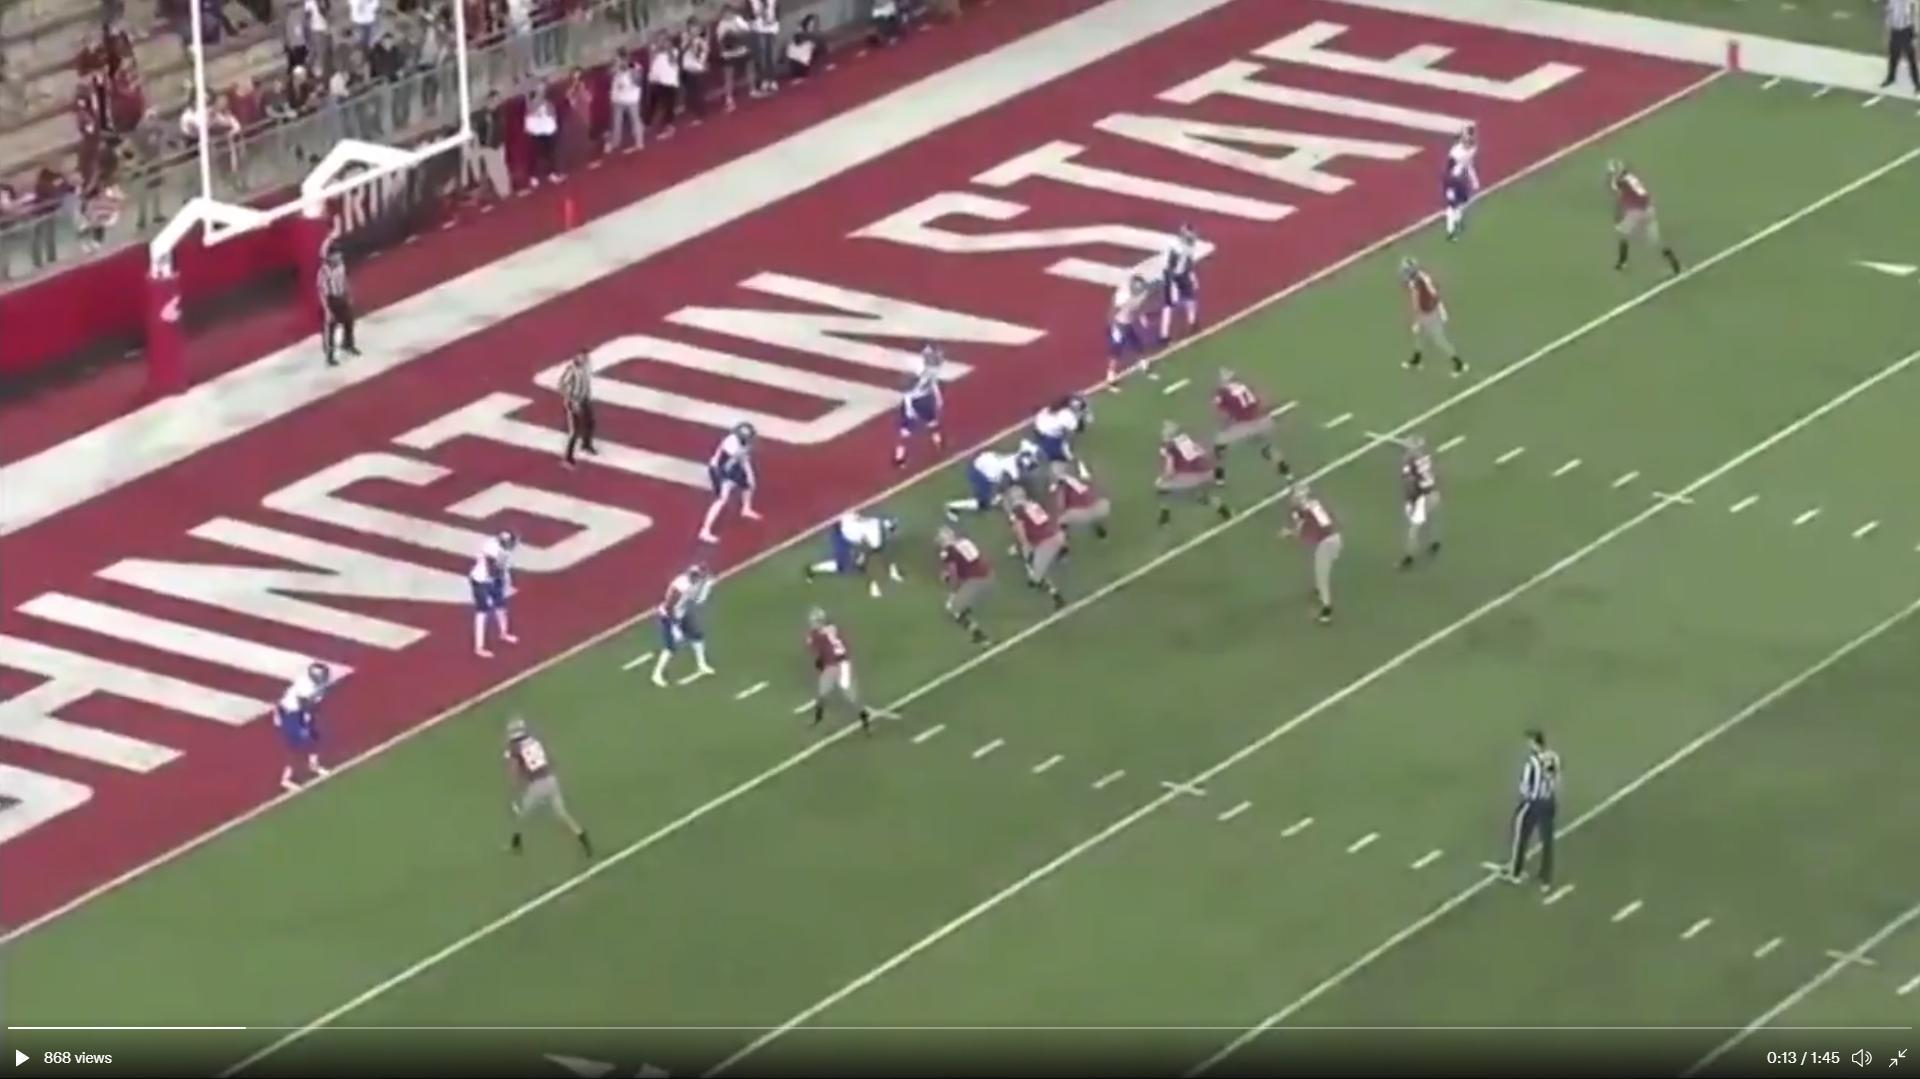defense: (649, 553, 727, 696), (880, 342, 957, 481), (695, 410, 767, 547), (1095, 265, 1170, 396), (274, 654, 338, 798), (468, 521, 530, 666), (808, 509, 905, 601), (1151, 226, 1217, 356), (949, 448, 1040, 525), (1435, 123, 1489, 247), (1025, 397, 1097, 484)
oline: (1208, 371, 1294, 484), (1005, 493, 1077, 617), (1153, 425, 1232, 532), (936, 524, 998, 648), (1043, 462, 1113, 550)
qb: (1283, 480, 1350, 624)
ref: (1497, 723, 1571, 896), (314, 216, 372, 381), (1869, 0, 1920, 106), (559, 347, 599, 467)
skill: (496, 710, 599, 860), (798, 603, 890, 736), (1602, 154, 1687, 280), (1394, 248, 1472, 379), (1396, 433, 1448, 574)
